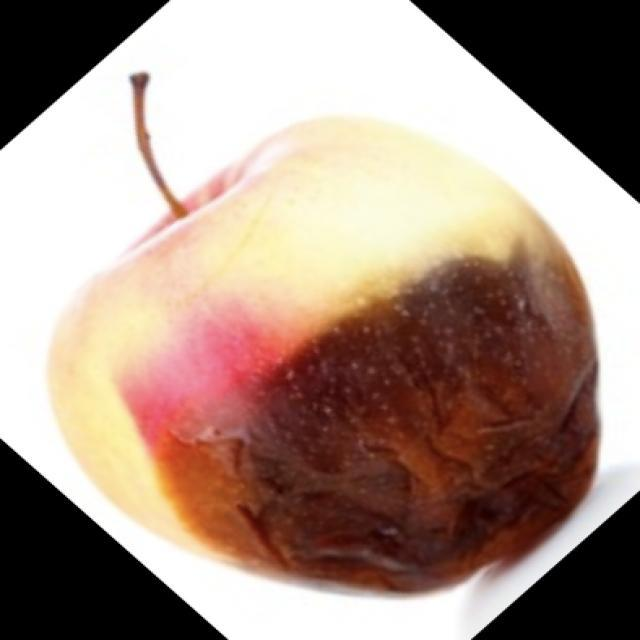Rotten: (73, 128, 602, 555)
